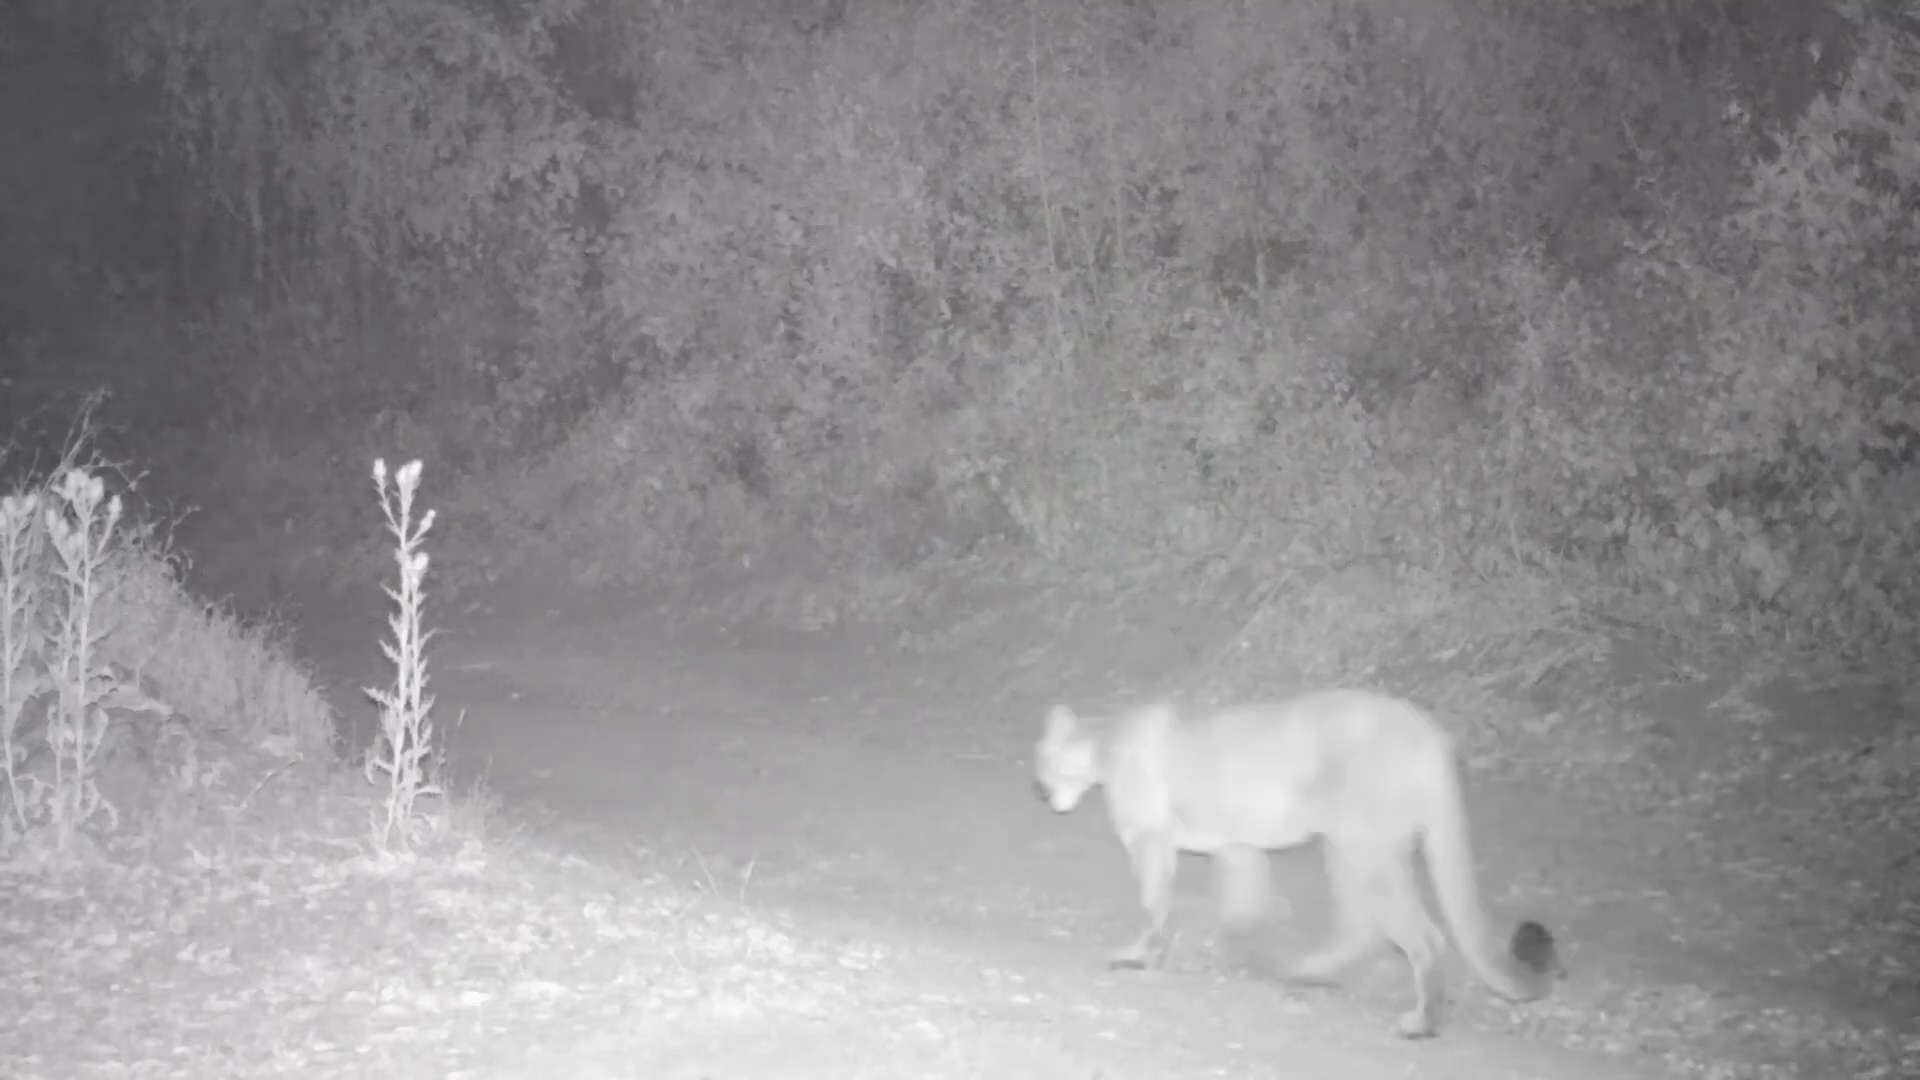Lion: (1027, 683, 1561, 1038)
